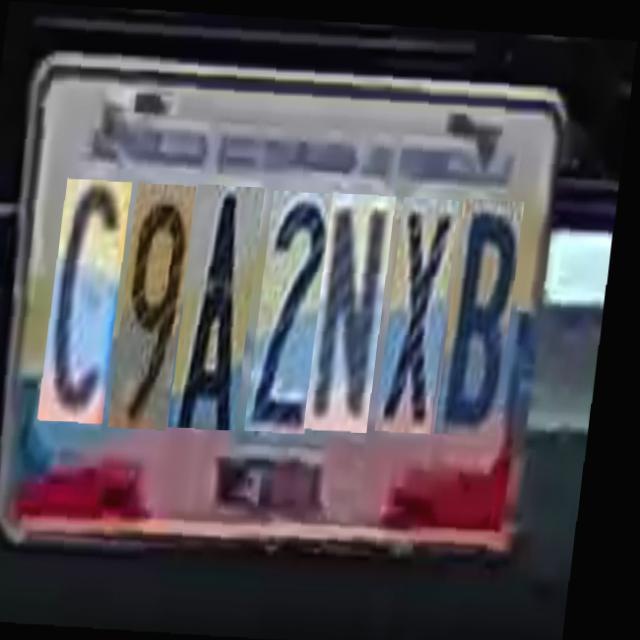2: (252, 179, 334, 421)
9: (116, 177, 194, 423)
A: (176, 176, 264, 420)
B: (443, 180, 524, 416)
C: (44, 175, 130, 419)
N: (312, 180, 396, 418)
X: (383, 181, 459, 416)
